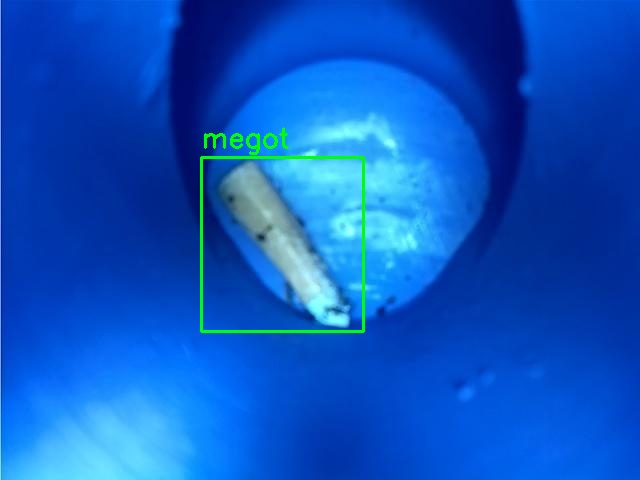megot: (201, 157, 363, 331)
